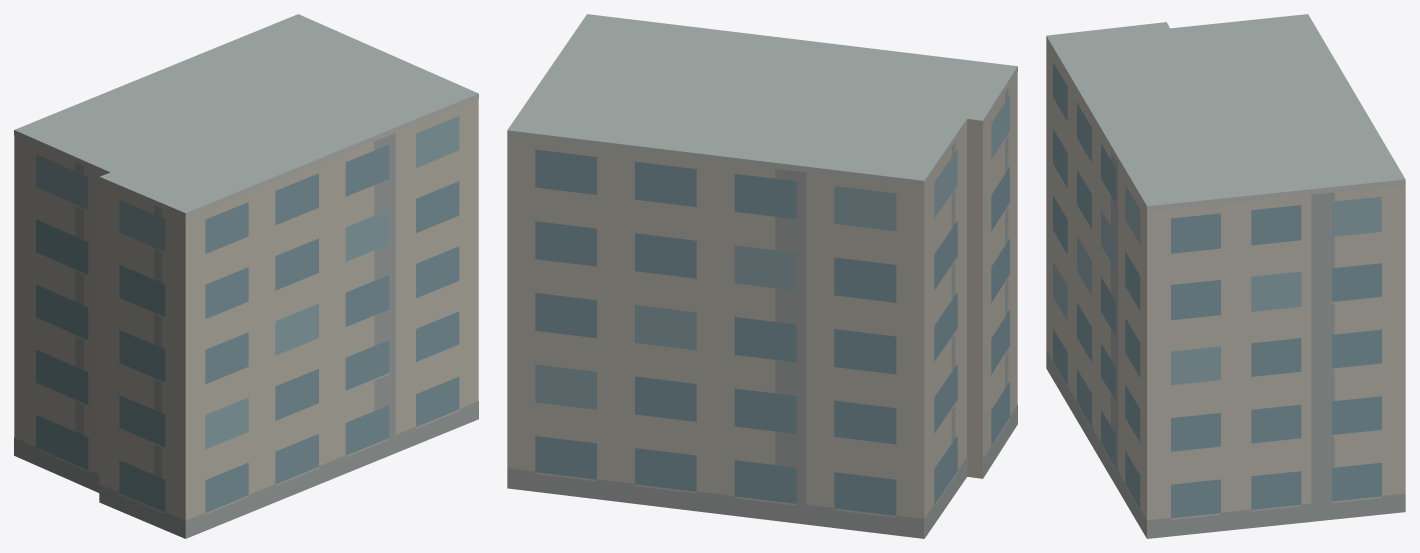
Rendered from survey-upis-32717069.glb.
3 views of the same model, side by side, from view 1: azimuth 30°, elevation 25°; view 2: azimuth 150°, elevation 25°; view 3: azimuth 270°, elevation 25° (orthographic). The views are drawn at different scales.
Visible parts, largest first — view 1: survey-upis-32717069.tmp; view 2: survey-upis-32717069.tmp; view 3: survey-upis-32717069.tmp.
Boxes of the visible parts, bbox=[...] form: survey-upis-32717069.tmp: bbox=[14, 14, 478, 538]; survey-upis-32717069.tmp: bbox=[507, 14, 1017, 538]; survey-upis-32717069.tmp: bbox=[1046, 14, 1405, 538].
Size of the model in its own units: 18.17 by 14.65 by 14.36.
